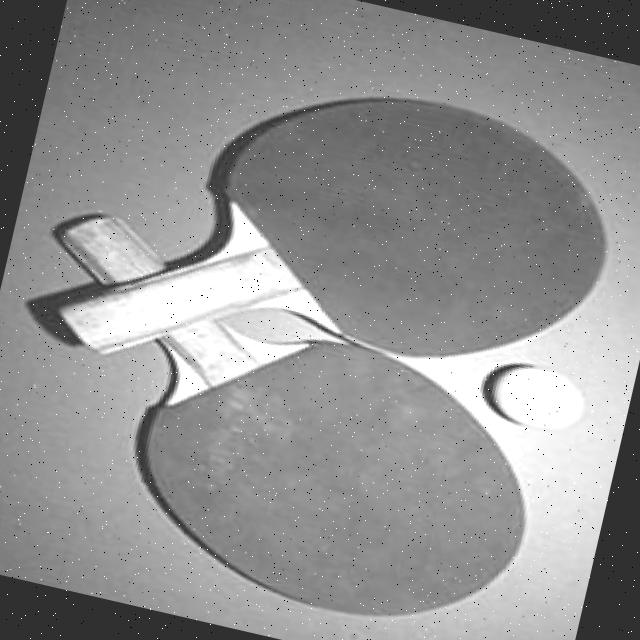ping-pong-ball: (480, 352, 596, 440)
